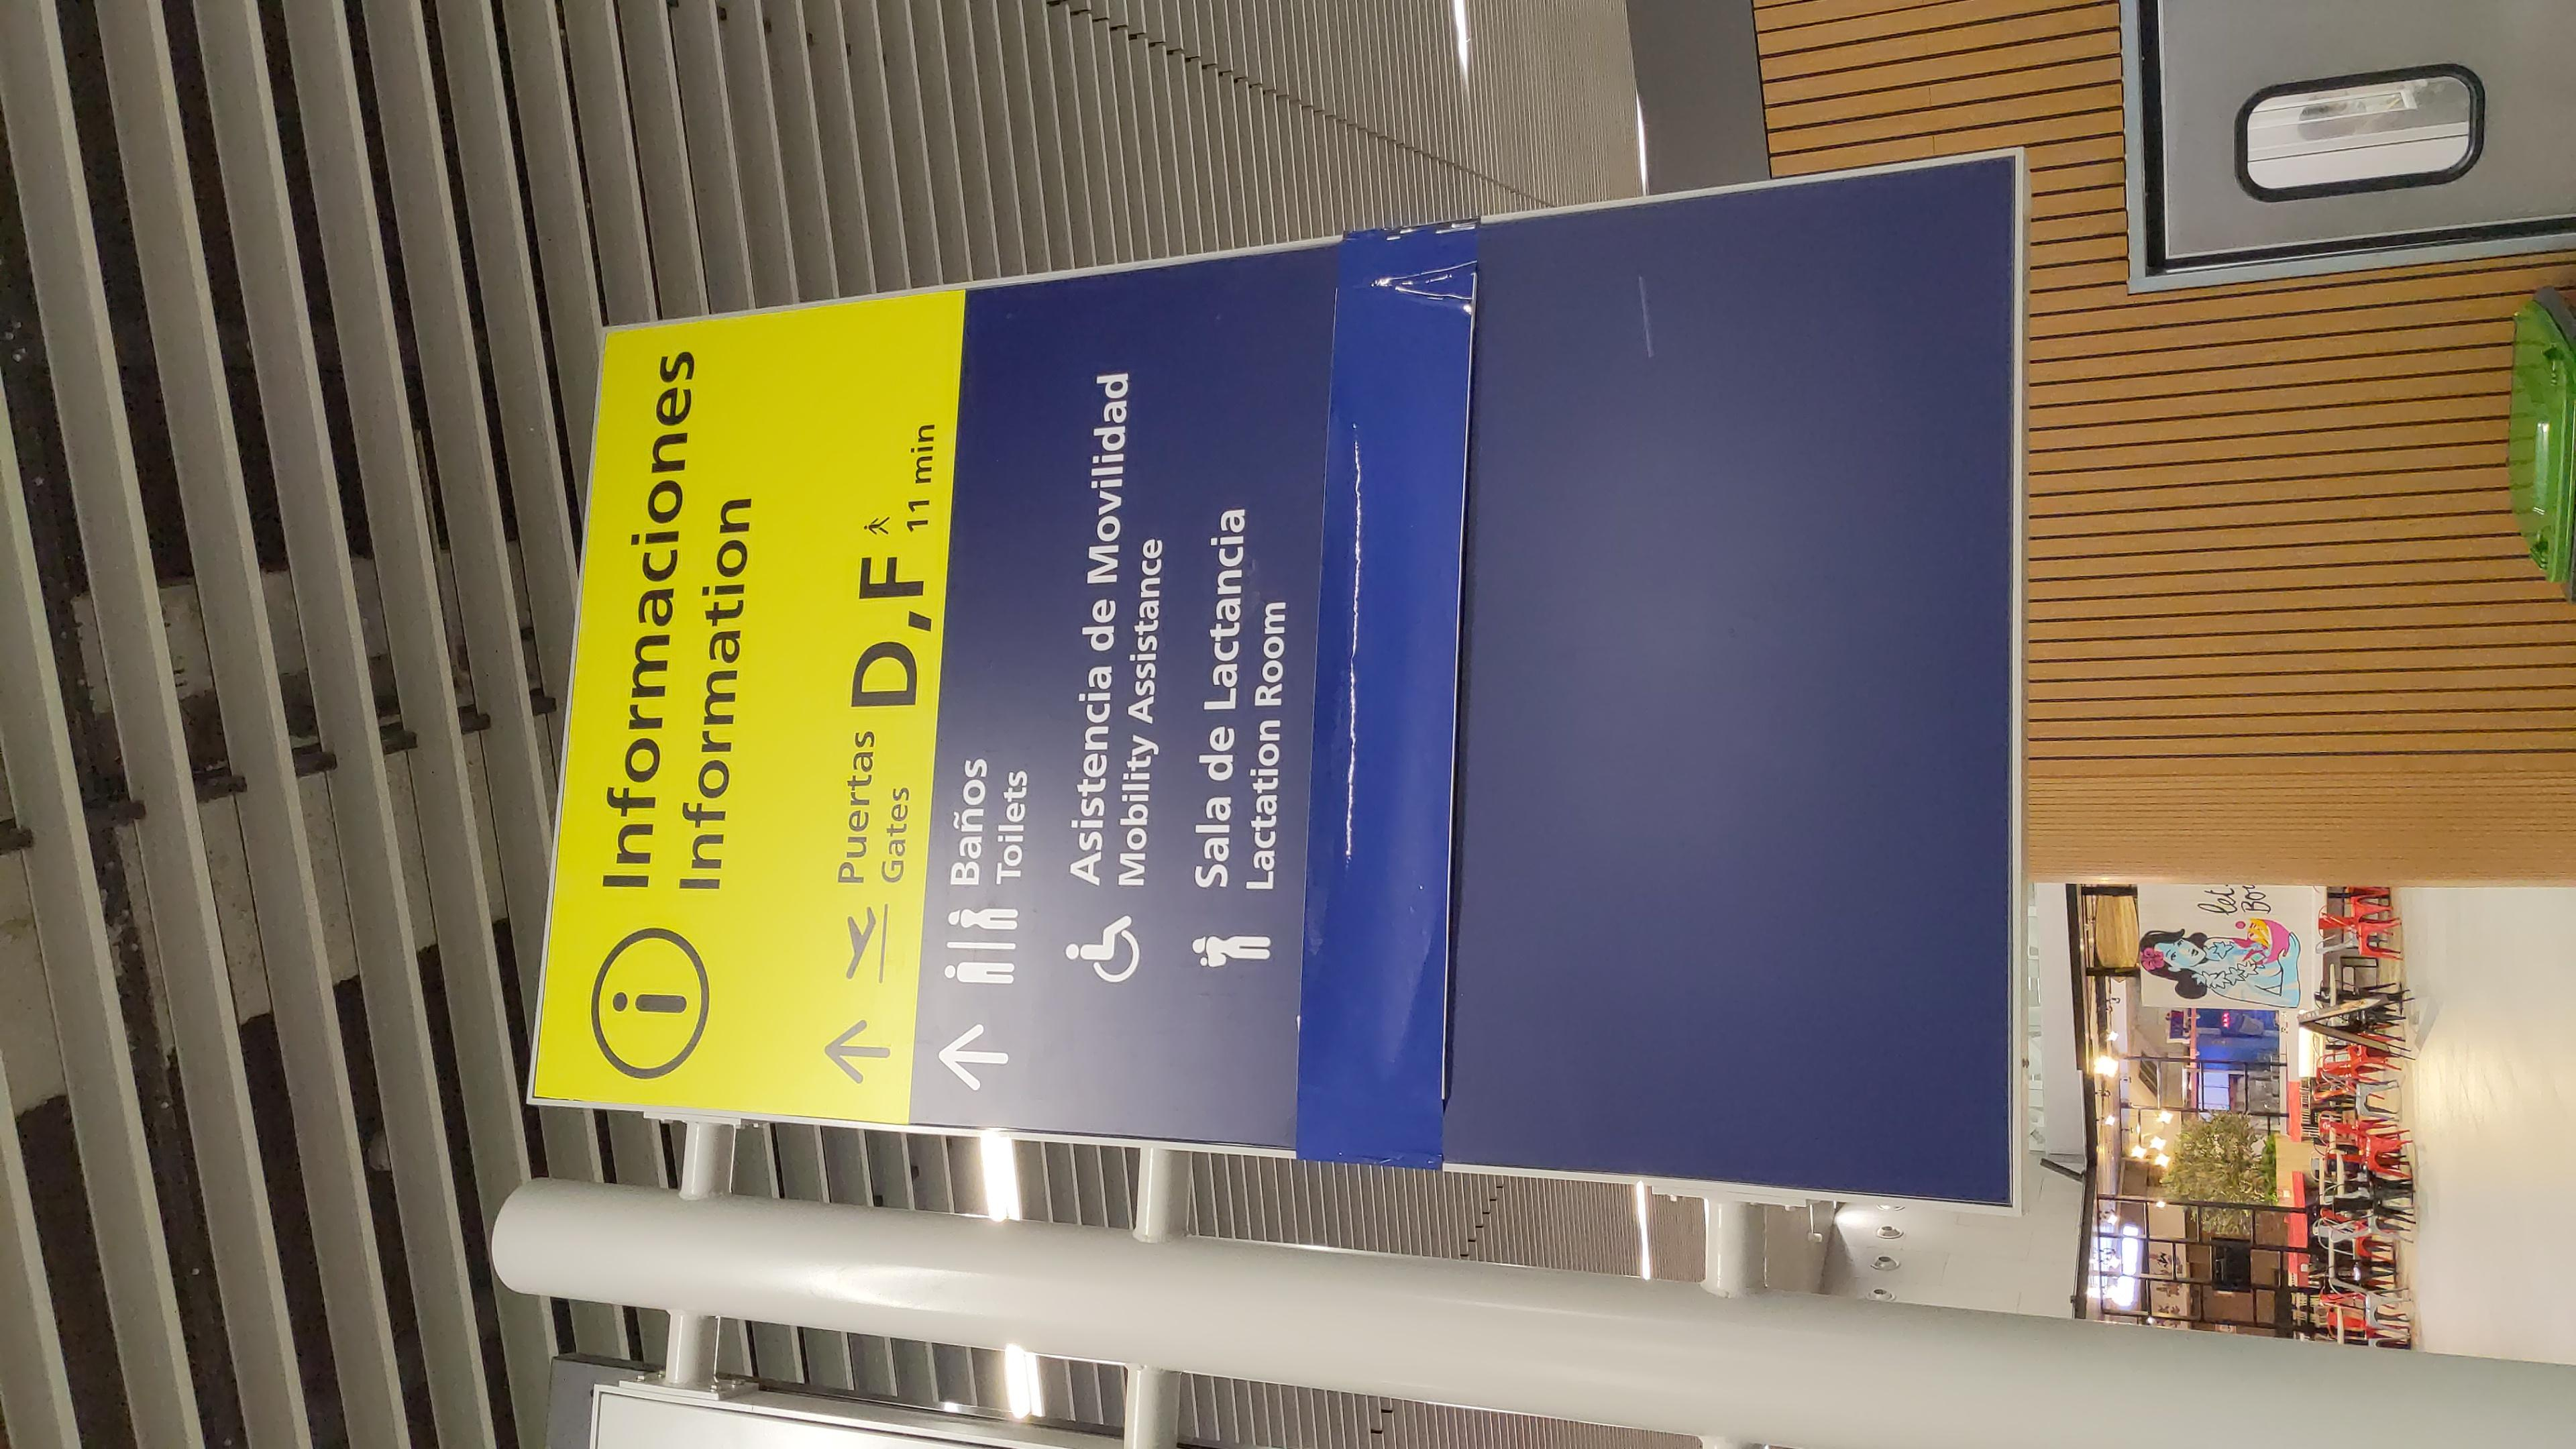airplane symbol: (824, 474, 971, 494)
bathrooms: (817, 529, 977, 575)
handicapped symbol: (826, 598, 954, 642)
up arrow: (632, 525, 766, 570), (640, 460, 771, 504)
